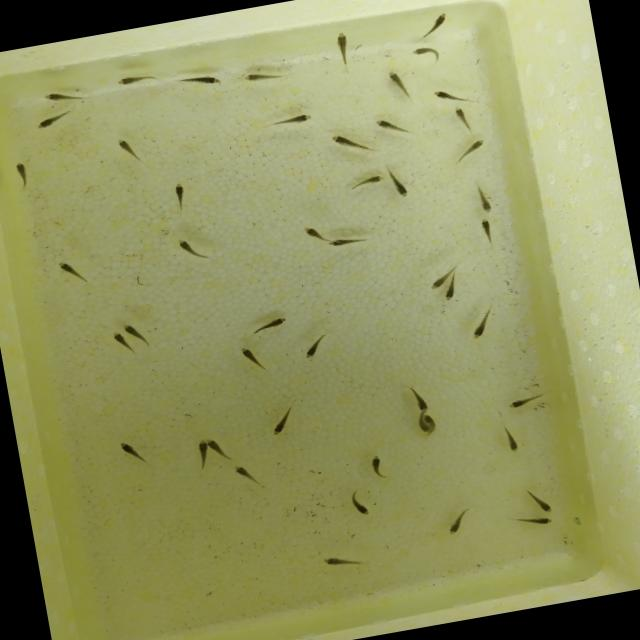fingerling: (165, 175, 195, 210), (464, 312, 494, 344), (314, 233, 370, 250), (498, 428, 529, 456), (373, 114, 407, 139), (435, 517, 473, 539), (504, 389, 540, 412), (328, 130, 362, 154), (172, 234, 204, 259), (276, 108, 314, 129), (112, 71, 156, 89), (330, 29, 354, 62), (8, 157, 36, 185), (422, 10, 452, 36), (236, 68, 277, 87), (316, 551, 354, 571), (298, 220, 329, 244), (361, 452, 392, 476), (348, 495, 375, 522), (386, 170, 412, 198), (114, 436, 142, 462), (188, 68, 222, 89), (388, 66, 409, 100), (38, 88, 82, 104), (54, 255, 80, 282), (111, 132, 138, 157), (228, 456, 255, 481), (106, 326, 132, 351), (474, 186, 495, 216), (525, 511, 555, 532), (121, 318, 145, 344), (256, 314, 290, 332), (268, 414, 293, 438), (30, 114, 64, 131), (422, 272, 448, 294), (532, 494, 558, 516), (428, 84, 456, 104), (194, 436, 212, 466), (298, 339, 320, 362), (412, 408, 429, 437), (462, 138, 486, 158), (238, 342, 258, 366), (409, 385, 429, 409), (353, 173, 386, 187), (453, 102, 470, 128), (411, 44, 438, 58), (206, 432, 223, 454), (478, 217, 494, 240), (444, 278, 456, 303), (426, 412, 436, 434)
